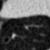node: (10, 32, 17, 40)
